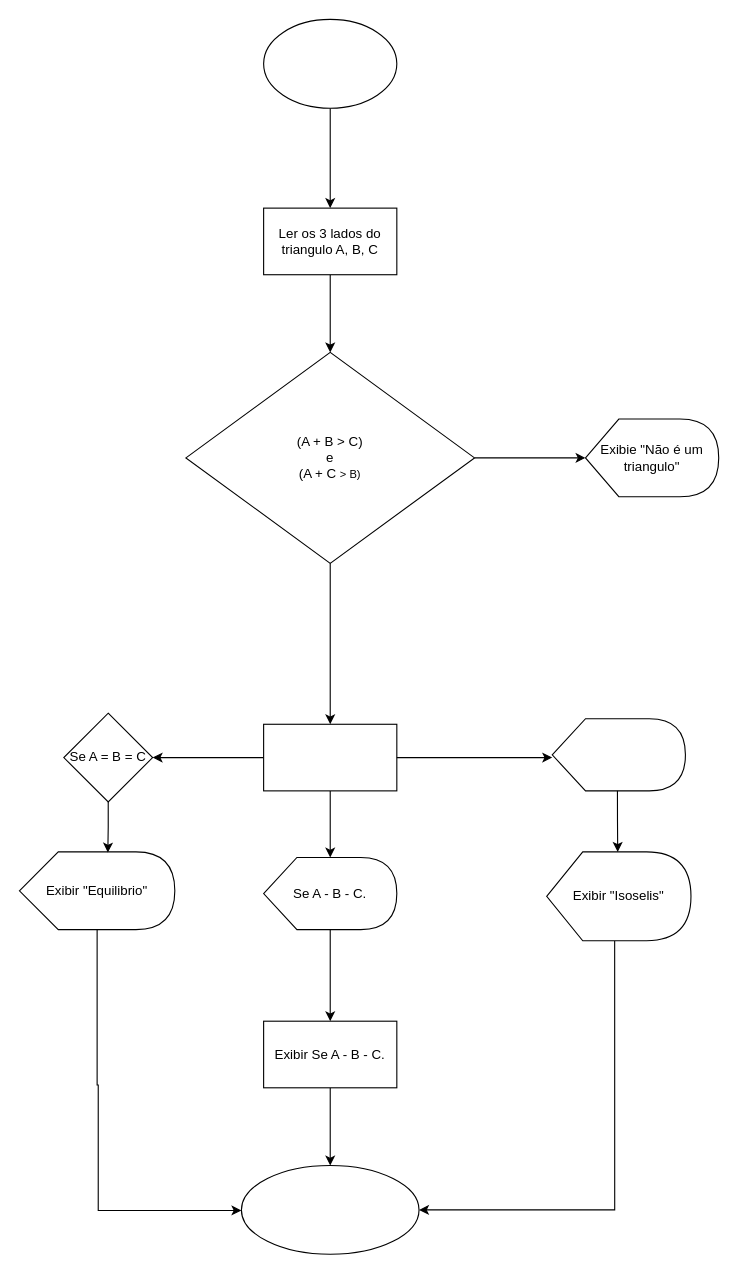
The diagram is 738 pixels wide and 1274 high, and some of its shapes have lost their labels. The shapes that lost their labels are listed below. From the top down, each one's centre as x and y in pixels, then its label:
At (x=330, y=63): "Inicio".
At (x=330, y=757): "Verificar o tipo de triangulo".
At (x=618, y=754): "Se A = B -C ou B = C - A ou A = C - B".
At (x=329, y=1209): "Fim".
